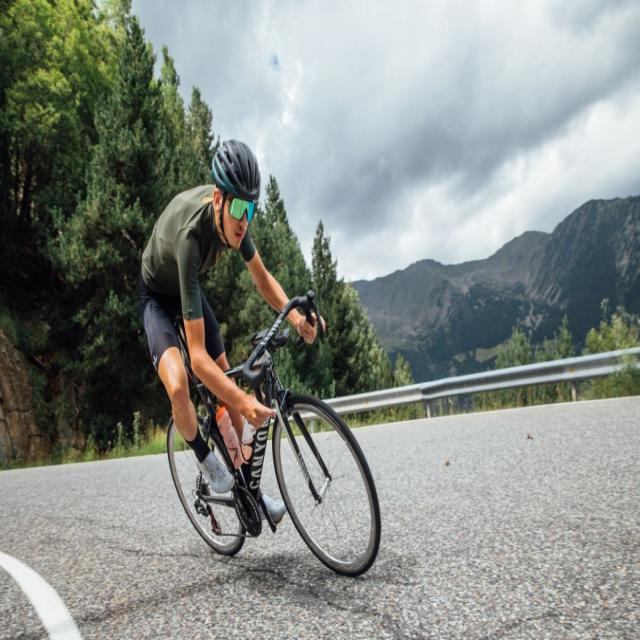bicycle: (150, 273, 393, 587)
